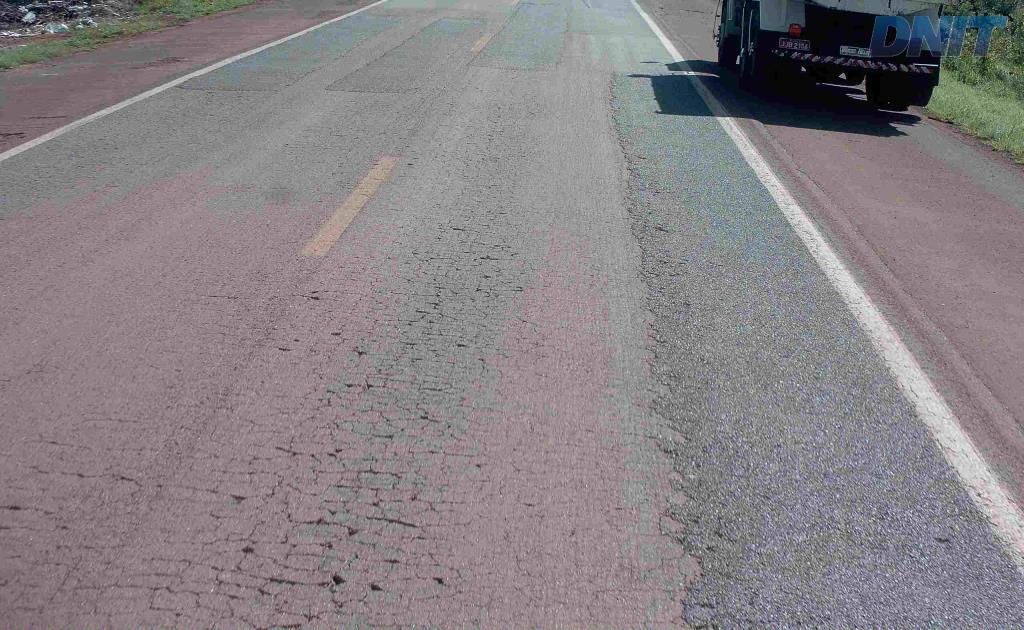crack: (224, 518, 348, 608), (280, 508, 364, 546), (333, 462, 408, 504)
